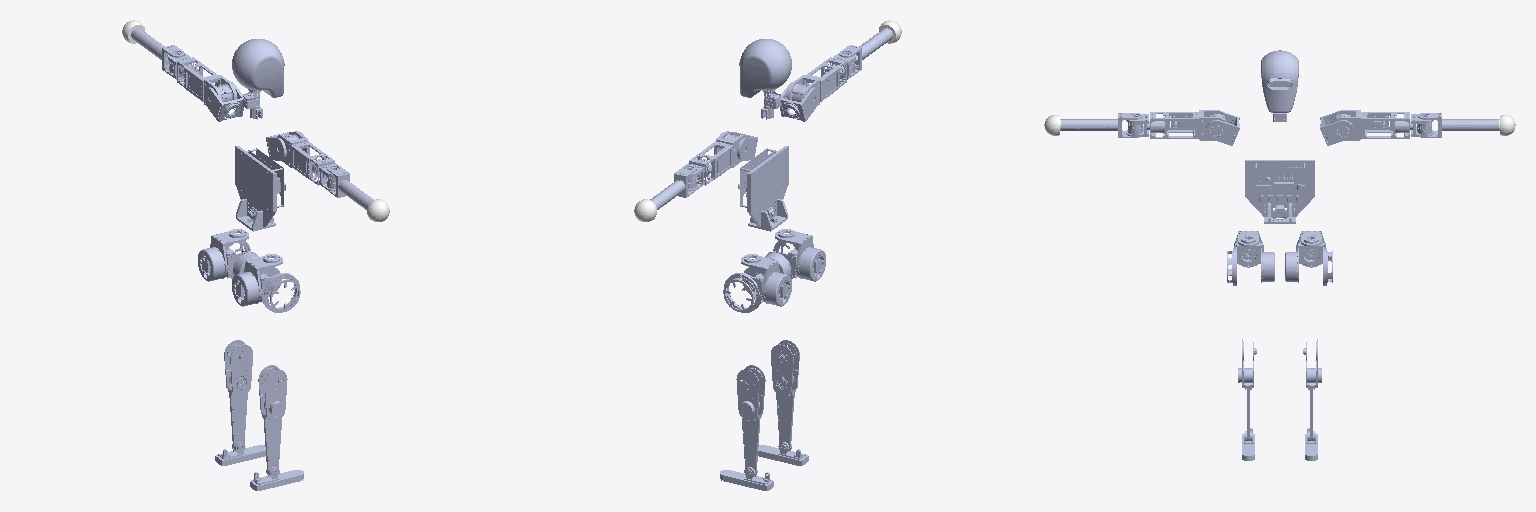
--- Facts derived from the render (not from the file) ---
Views: 3 orthographic renders of the robot side by side, from view 1: azimuth 30°, elevation 25°; view 2: azimuth 150°, elevation 25°; view 3: azimuth 270°, elevation 25°.
Robot: Wholebody_URDF_1125 — 25 links, 24 joints (19 revolute, 5 fixed); root link Pelvis; default pose: every joint at zero.
Visible links, largest first — view 1: Torso, Head, L_calf, R_calf, L_shoulder_roll, R_shoulder_roll, L_hip, R_hip, R_hip2, L_shoulder_pitch, R_elbow_pitch, L_elbow_pitch (+3 smaller); view 2: Torso, Head, R_calf, L_calf, R_shoulder_roll, L_shoulder_roll, R_hip, L_hip, L_hip2, R_shoulder_pitch, L_elbow_pitch, R_elbow_pitch (+3 smaller); view 3: Torso, Head, L_shoulder_roll, R_shoulder_roll, R_hip2, L_hip2, L_elbow_pitch, R_elbow_pitch, L_shoulder_pitch, R_shoulder_pitch, L_calf, R_calf.
Link boxes in pixels (bbox=[...]): Torso: bbox=[235, 146, 285, 231]; Head: bbox=[232, 39, 284, 119]; L_calf: bbox=[224, 340, 252, 452]; R_calf: bbox=[258, 365, 287, 477]; L_shoulder_roll: bbox=[177, 57, 236, 104]; R_shoulder_roll: bbox=[277, 131, 334, 185]; L_hip: bbox=[198, 229, 248, 281]; R_hip: bbox=[232, 254, 282, 306]; R_hip2: bbox=[260, 267, 300, 312]; L_shoulder_pitch: bbox=[204, 82, 243, 121]; R_elbow_pitch: bbox=[327, 165, 373, 209]; L_elbow_pitch: bbox=[131, 28, 184, 75]; Torso: bbox=[738, 146, 788, 231]; Head: bbox=[739, 39, 791, 119]; R_calf: bbox=[771, 340, 799, 452]; L_calf: bbox=[736, 365, 765, 477]; R_shoulder_roll: bbox=[787, 57, 846, 104]; L_shoulder_roll: bbox=[689, 131, 746, 185]; R_hip: bbox=[775, 229, 825, 281]; L_hip: bbox=[741, 254, 791, 306]; L_hip2: bbox=[723, 267, 763, 312]; R_shoulder_pitch: bbox=[780, 82, 819, 121]; L_elbow_pitch: bbox=[650, 165, 696, 209]; R_elbow_pitch: bbox=[839, 28, 892, 75]; Torso: bbox=[1245, 160, 1314, 223]; Head: bbox=[1261, 50, 1298, 121]; L_shoulder_roll: bbox=[1331, 110, 1409, 140]; R_shoulder_roll: bbox=[1150, 110, 1228, 140]; R_hip2: bbox=[1227, 242, 1274, 285]; L_hip2: bbox=[1285, 242, 1332, 285]; L_elbow_pitch: bbox=[1418, 113, 1498, 137]; R_elbow_pitch: bbox=[1061, 113, 1141, 137]; L_shoulder_pitch: bbox=[1320, 112, 1353, 145]; R_shoulder_pitch: bbox=[1206, 112, 1239, 145]; L_calf: bbox=[1303, 339, 1321, 440]; R_calf: bbox=[1238, 339, 1256, 440].
Bounding box of the posed robot: 0.2567 × 1.76 × 1.64 m (x, y, z).
Meshes: 23 distinct files referenced, 20 mesh visuals loaded (20 binary STL); not drawn: 3 (reference not matched to a file when rendering).

URDF robot description (Wholebody_URDF_1125):
<?xml version="1.0" encoding="utf-8"?>
<!-- This URDF was automatically created by SolidWorks to URDF Exporter! Originally created by Stephen Brawner ([email redacted]) 
     Commit Version: 1.6.0-4-g7f85cfe  Build Version: 1.6.7995.38578
     For more information, please see http://wiki.ros.org/sw_urdf_exporter -->
<robot
  name="Wholebody_URDF_1125">
  <link
    name="Pelvis">
    <inertial>
      <origin
        xyz="-0.018793 0.000052 0.034756"
        rpy="0 0 0" />
      <mass
        value="6.636796" />
      <inertia
        ixx="0.073763"
        ixy="0.000024"
        ixz="0.001899"
        iyy="0.022641"
        iyz="-0.000003"
        izz="0.087990" />
    </inertial>
    <visual>
      <origin
        xyz="0 0 0"
        rpy="0 0 0" />
      <geometry>
        <mesh
          filename="meshes/Pelvis.STL" />
      </geometry>
      <material
        name="">
        <color
          rgba="0.79216 0.81961 0.93333 1" />
      </material>
    </visual>
    <collision>
      <origin
        xyz="0 0 0"
        rpy="0 0 0" />
      <geometry>
        <mesh
          filename="meshes/Pelvis.STL" />
      </geometry>
    </collision>
  </link>
  <link
    name="Torso">
    <inertial>
      <origin
        xyz="-0.015777 -0.000523 0.232555"
        rpy="0 0 0" />
      <mass
        value="13.423049" />
      <inertia
        ixx="0.226837"
        ixy="0.000171"
        ixz="-0.004416"
        iyy="0.165371"
        iyz="-0.000024"
        izz="0.098576" />
    </inertial>
    <visual>
      <origin
        xyz="0 0 0"
        rpy="0 0 0" />
      <geometry>
        <mesh
          filename="meshes/Torso.STL" />
      </geometry>
      <material
        name="">
        <color
          rgba="0.792156862745098 0.819607843137255 0.933333333333333 1" />
      </material>
    </visual>
    <collision>
      <origin
        xyz="0 0 0"
        rpy="0 0 0" />
      <geometry>
        <mesh
          filename="meshes/Torso.STL" />
      </geometry>
    </collision>
  </link>
  <joint
    name="Waist_joint"
    type="revolute">
    <origin
      xyz="0 0 0.0825"
      rpy="0 0 0" />
    <parent
      link="Pelvis" />
    <child
      link="Torso" />
    <axis
      xyz="0 0 1" />
    <limit
      lower="-1.57"
      upper="1.57"
      effort="100"
      velocity="16" />
  </joint>
  <link
    name="L_shoulder_pitch">
    <inertial>
      <origin
        xyz="0.002264 0.049276 0"
        rpy="0 0 0" />
      <mass
        value="0.4695" />
      <inertia
        ixx="0.000899"
        ixy="-6.5E-05"
        ixz="0"
        iyy="0.000951"
        iyz="0"
        izz="0.001364" />
    </inertial>
    <visual>
      <origin
        xyz="0 0 0"
        rpy="0 0 0" />
      <geometry>
        <mesh
          filename="meshes/L_shoulder_pitch.STL" />
      </geometry>
      <material
        name="">
        <color
          rgba="0.792156862745098 0.819607843137255 0.933333333333333 1" />
      </material>
    </visual>
    <collision>
      <origin
        xyz="0 0 0"
        rpy="0 0 0" />
      <geometry>
        <mesh
          filename="meshes/L_shoulder_pitch.STL" />
      </geometry>
    </collision>
  </link>
  <joint
    name="L_shoulder_pitch_joint"
    type="revolute">
    <origin
      xyz="0 0.16 0.36424"
      rpy="0.34907 0 0" />
    <parent
      link="Torso" />
    <child
      link="L_shoulder_pitch" />
    <axis
      xyz="0 1 0" />
    <limit
      lower="-2.09"
      upper="2.09"
      effort="40"
      velocity="18" />
  </joint>
  <link
    name="L_shoulder_roll">
    <inertial>
      <origin
        xyz="0.000605 6.8E-05 -0.08074"
        rpy="0 0 0" />
      <mass
        value="2.05" />
      <inertia
        ixx="0.020258"
        ixy="-5E-06"
        ixz="-0.000316"
        iyy="0.020052"
        iyz="4.5E-05"
        izz="0.002351" />
    </inertial>
    <visual>
      <origin
        xyz="0 0 0"
        rpy="0 0 0" />
      <geometry>
        <mesh
          filename="meshes/L_shoulder_roll.STL" />
      </geometry>
      <material
        name="">
        <color
          rgba="0.792156862745098 0.819607843137255 0.933333333333333 1" />
      </material>
    </visual>
    <collision>
      <origin
        xyz="0 0 0"
        rpy="0 0 0" />
      <geometry>
        <mesh
          filename="meshes/L_shoulder_roll.STL" />
      </geometry>
    </collision>
  </link>
  <joint
    name="L_shoulder_roll_joint"
    type="revolute">
    <origin
      xyz="0 0.082 0"
      rpy="1.2217304764 0 0" />
    <parent
      link="L_shoulder_pitch" />
    <child
      link="L_shoulder_roll" />
    <axis
      xyz="1 0 0" />
    <limit
      lower="-1.65"
      upper="1.92"
      effort="40"
      velocity="18" />
  </joint>
  <link
    name="L_shoulder_yaw">
    <inertial>
      <origin
        xyz="4.9E-05 0.002116 -0.045474"
        rpy="0 0 0" />
      <mass
        value="0.602" />
      <inertia
        ixx="0.000595"
        ixy="0"
        ixz="0"
        iyy="0.000485"
        iyz="3E-06"
        izz="0.000471" />
    </inertial>
    <visual>
      <origin
        xyz="0 0 0"
        rpy="0 0 0" />
      <geometry>
        <mesh
          filename="meshes/L_shoulder_yaw.STL" />
      </geometry>
      <material
        name="">
        <color
          rgba="0.792156862745098 0.819607843137255 0.933333333333333 1" />
      </material>
    </visual>
    <collision>
      <origin
        xyz="0 0 0"
        rpy="0 0 0" />
      <geometry>
        <mesh
          filename="meshes/L_shoulder_yaw.STL" />
      </geometry>
    </collision>
  </link>
  <joint
    name="L_shoulder_yaw_joint"
    type="revolute">
    <origin
      xyz="0 0 -0.2505"
      rpy="0 0 0" />
    <parent
      link="L_shoulder_roll" />
    <child
      link="L_shoulder_yaw" />
    <axis
      xyz="0 0 1" />
    <limit
      lower="-1.57"
      upper="1.57"
      effort="20"
      velocity="11.5" />
  </joint>
  <link
    name="L_elbow_pitch">
    <inertial>
      <origin
        xyz="0 -0.000251 -0.078513"
        rpy="0 0 0" />
      <mass
        value="0.3055" />
      <inertia
        ixx="0.00177"
        ixy="0"
        ixz="0"
        iyy="0.0016"
        iyz="4E-06"
        izz="0.000308" />
    </inertial>
    <visual>
      <origin
        xyz="0 0 0"
        rpy="0 0 0" />
      <geometry>
        <mesh
          filename="meshes/L_elbow_pitch.STL" />
      </geometry>
      <material
        name="">
        <color
          rgba="0.792156862745098 0.819607843137255 0.933333333333333 1" />
      </material>
    </visual>
    <collision>
      <origin
        xyz="0 0 0"
        rpy="0 0 0" />
      <geometry>
        <mesh
          filename="meshes/L_elbow_pitch.STL" />
      </geometry>
    </collision>
  </link>
  <joint
    name="L_elbow_pitch_joint"
    type="revolute">
    <origin
      xyz="0 0 -0.0545"
      rpy="0 0 0" />
    <parent
      link="L_shoulder_yaw" />
    <child
      link="L_elbow_pitch" />
    <axis
      xyz="0 1 0" />
    <!-- <limit
      lower="-1.57"
      upper="0"
      effort="20"
      velocity="11.5" /> -->

    <limit
      lower="-1.57"
      upper="1.57"
      effort="20"
      velocity="11.5" />
  </joint>
  <link
    name="L_EE">
    <inertial>
      <origin
        xyz="0 0 -0.003521"
        rpy="0 0 0" />
      <mass
        value="0.0665" />
      <inertia
        ixx="3.8E-05"
        ixy="0"
        ixz="0"
        iyy="3.8E-05"
        iyz="0"
        izz="4.4E-05" />
    </inertial>
    <visual>
      <origin
        xyz="0 0 0"
        rpy="0 0 0" />
      <geometry>
        <mesh
          filename="meshes/L_EE.STL" />
      </geometry>
      <material
        name="">
        <color
          rgba="1 1 1 1" />
      </material>
    </visual>
    <collision>
      <origin
        xyz="0 0 0"
        rpy="0 0 0" />
      <geometry>
        <mesh
          filename="meshes/L_EE.STL" />
      </geometry>
    </collision>
  </link>
  <joint
    name="L_EE_joint"
    type="fixed">
    <origin
      xyz="0 0 -0.3"
      rpy="0 0 0" />
    <parent
      link="L_elbow_pitch" />
    <child
      link="L_EE" />
    <axis
      xyz="0 0 0" />
  </joint>
  <link
    name="R_shoulder_pitch">
    <inertial>
      <origin
        xyz="0.002185 -0.04921 0"
        rpy="0 0 0" />
      <mass
        value="0.4675" />
      <inertia
        ixx="0.000895"
        ixy="6.5E-05"
        ixz="0"
        iyy="0.000946"
        iyz="0"
        izz="0.001358" />
    </inertial>
    <visual>
      <origin
        xyz="0 0 0"
        rpy="0 0 0" />
      <geometry>
        <mesh
          filename="meshes/R_shoulder_pitch.STL" />
      </geometry>
      <material
        name="">
        <color
          rgba="0.792156862745098 0.819607843137255 0.933333333333333 1" />
      </material>
    </visual>
    <collision>
      <origin
        xyz="0 0 0"
        rpy="0 0 0" />
      <geometry>
        <mesh
          filename="meshes/R_shoulder_pitch.STL" />
      </geometry>
    </collision>
  </link>
  <joint
    name="R_shoulder_pitch_joint"
    type="revolute">
    <origin
      xyz="0 -0.16 0.36424"
      rpy="-0.34907 0 0" />
    <parent
      link="Torso" />
    <child
      link="R_shoulder_pitch" />
    <axis
      xyz="0 1 0" />
    <limit
      lower="-2.09"
      upper="2.09"
      effort="40"
      velocity="18" />
  </joint>
  <link
    name="R_shoulder_roll">
    <inertial>
      <origin
        xyz="0.000805 -0.000221 -0.080651"
        rpy="0 0 0" />
      <mass
        value="2.05" />
      <inertia
        ixx="0.020167"
        ixy="-5E-06"
        ixz="-0.00033"
        iyy="0.019962"
        iyz="-2.4E-05"
        izz="0.002330" />
    </inertial>
    <visual>
      <origin
        xyz="0 0 0"
        rpy="0 0 0" />
      <geometry>
        <mesh
          filename="meshes/R_shoulder_roll.STL" />
      </geometry>
      <material
        name="">
        <color
          rgba="0.792156862745098 0.819607843137255 0.933333333333333 1" />
      </material>
    </visual>
    <collision>
      <origin
        xyz="0 0 0"
        rpy="0 0 0" />
      <geometry>
        <mesh
          filename="meshes/R_shoulder_roll.STL" />
      </geometry>
    </collision>
  </link>
  <joint
    name="R_shoulder_roll_joint"
    type="revolute">
    <origin
      xyz="0 -0.082 0"
      rpy="-1.2217304764 0 0" />
    <parent
      link="R_shoulder_pitch" />
    <child
      link="R_shoulder_roll" />
    <axis
      xyz="1 0 0" />
    <limit
      lower="-1.92"
      upper="1.65"
      effort="40"
      velocity="18" />
  </joint>
  <link
    name="R_shoulder_yaw">
    <inertial>
      <origin
        xyz="-4.9E-05 -0.00212 -0.045518"
        rpy="0 0 0" />
      <mass
        value="0.6025" />
      <inertia
        ixx="0.000595"
        ixy="0"
        ixz="0"
        iyy="0.000485"
        iyz="-3E-06"
        izz="0.000471" />
    </inertial>
    <visual>
      <origin
        xyz="0 0 0"
        rpy="0 0 0" />
      <geometry>
        <mesh
          filename="meshes/R_shoulder_yaw.STL" />
      </geometry>
      <material
        name="">
        <color
          rgba="0.792156862745098 0.819607843137255 0.933333333333333 1" />
      </material>
    </visual>
    <collision>
      <origin
        xyz="0 0 0"
        rpy="0 0 0" />
      <geometry>
        <mesh
          filename="meshes/R_shoulder_yaw.STL" />
      </geometry>
    </collision>
  </link>
  <joint
    name="R_shoulder_yaw_joint"
    type="revolute">
    <origin
      xyz="0 0 -0.2505"
      rpy="0 0 0" />
    <parent
      link="R_shoulder_roll" />
    <child
      link="R_shoulder_yaw" />
    <axis
      xyz="0 0 1" />
    <limit
      lower="-1.57"
      upper="1.57"
      effort="20"
      velocity="11.5" />
  </joint>
  <link
    name="R_elbow_pitch">
    <inertial>
      <origin
        xyz="0 0.000188 -0.07906"
        rpy="0 0 0" />
      <mass
        value="0.304" />
      <inertia
        ixx="0.001765"
        ixy="0"
        ixz="0"
        iyy="0.001598"
        iyz="-3E-06"
        izz="0.000304" />
    </inertial>
    <visual>
      <origin
        xyz="0 0 0"
        rpy="0 0 0" />
      <geometry>
        <mesh
          filename="meshes/R_elbow_pitch.STL" />
      </geometry>
      <material
        name="">
        <color
          rgba="0.792156862745098 0.819607843137255 0.933333333333333 1" />
      </material>
    </visual>
    <collision>
      <origin
        xyz="0 0 0"
        rpy="0 0 0" />
      <geometry>
        <mesh
          filename="meshes/R_elbow_pitch.STL" />
      </geometry>
    </collision>
  </link>
  <joint
    name="R_elbow_pitch_joint"
    type="revolute">
    <origin
      xyz="0 0 -0.0545"
      rpy="0 0 0" />
    <parent
      link="R_shoulder_yaw" />
    <child
      link="R_elbow_pitch" />
    <axis
      xyz="0 1 0" />
    <!-- <limit
      lower="-1.57"
      upper="0"
      effort="20"
      velocity="11.5" /> -->
    <limit
      lower="-1.57"
      upper="1.57"
      effort="20"
      velocity="11.5" />
  </joint>
  <link
    name="R_EE">
    <inertial>
      <origin
        xyz="0 0 -0.003521"
        rpy="0 0 0" />
      <mass
        value="0.0665" />
      <inertia
        ixx="3.8E-05"
        ixy="0"
        ixz="0"
        iyy="3.8E-05"
        iyz="0"
        izz="4.4E-05" />
    </inertial>
    <visual>
      <origin
        xyz="0 0 0"
        rpy="0 0 0" />
      <geometry>
        <mesh
          filename="meshes/R_EE.STL" />
      </geometry>
      <material
        name="">
        <color
          rgba="1 1 1 1" />
      </material>
    </visual>
    <collision>
      <origin
        xyz="0 0 0"
        rpy="0 0 0" />
      <geometry>
        <mesh
          filename="meshes/R_EE.STL" />
      </geometry>
    </collision>
  </link>
  <joint
    name="R_EE_joint"
    type="fixed">
    <origin
      xyz="0 0 -0.3"
      rpy="0 0 0" />
    <parent
      link="R_elbow_pitch" />
    <child
      link="R_EE" />
    <axis
      xyz="0 0 0" />
  </joint>
  <link
    name="Head">
    <inertial>
      <origin
        xyz="0.022307 0.000408 0.104941"
        rpy="0 0 0" />
      <mass
        value="0.44842" />
      <inertia
        ixx="0.002696"
        ixy="-9E-06"
        ixz="-0.000288"
        iyy="0.00313"
        iyz="-7E-06"
        izz="0.001525" />
    </inertial>
    <visual>
      <origin
        xyz="0 0 0"
        rpy="0 0 0" />
      <geometry>
        <mesh
          filename="meshes/Head.STL" />
      </geometry>
      <material
        name="">
        <color
          rgba="0.792156862745098 0.819607843137255 0.933333333333333 1" />
      </material>
    </visual>
    <collision>
      <origin
        xyz="0 0 0"
        rpy="0 0 0" />
      <geometry>
        <mesh
          filename="meshes/Head.STL" />
      </geometry>
    </collision>
  </link>
  <joint
    name="Head_joint"
    type="fixed">
    <origin
      xyz="-0.0027205 0 0.45287"
      rpy="0 0 0" />
    <parent
      link="Torso" />
    <child
      link="Head" />
    <axis
      xyz="0 0 0" />
  </joint>
  <link
    name="L_hip">
    <inertial>
      <origin
        xyz="-0.086776 0.0 -0.070553"
        rpy="0 0 0" />
      <mass
        value="1.5262" />
      <inertia
        ixx="0.004080"
        ixy="0.0"
        ixz="-0.000987"
        iyy="0.003954"
        iyz="0.0"
        izz="0.002761" />
    </inertial>
    <visual>
      <origin
        xyz="0 0 0"
        rpy="0 0 0" />
      <geometry>
        <mesh
          filename="meshes/L_hip.STL" />
      </geometry>
      <material
        name="">
        <color
          rgba="0.792156862745098 0.819607843137255 0.933333333333333 1" />
      </material>
    </visual>
    <collision>
      <origin
        xyz="0 0 0"
        rpy="0 0 0" />
      <geometry>
        <mesh
          filename="meshes/L_hip.STL" />
      </geometry>
    </collision>
  </link>
  <joint
    name="L_hip_joint"
    type="revolute">
    <origin
      xyz="-0.0053471 0.1175 -0.0067"
      rpy="0 0 0" />
    <parent
      link="Pelvis" />
    <child
      link="L_hip" />
    <axis
      xyz="0 0 1" />
    <limit
      lower="-1.5"
      upper="1.5"
      effort="120"
      velocity="23" />
  </joint>
  <link
    name="L_hip2">
    <inertial>
      <origin
        xyz="0.076889 -0.034855 -0.014787"
        rpy="0 0 0" />
      <mass
        value="1.726000" />
      <inertia
        ixx="0.006963"
        ixy="0.000389"
        ixz="0.000363"
        iyy="0.004861"
        iyz="-0.000232"
        izz="0.007308" />
    </inertial>
    <visual>
      <origin
        xyz="0 0 0"
        rpy="0 0 0" />
      <geometry>
        <mesh
          filename="meshes/L_hip2.STL" />
      </geometry>
      <material
        name="">
        <color
          rgba="0.792156862745098 0.819607843137255 0.933333333333333 1" />
      </material>
    </visual>
    <collision>
      <origin
        xyz="0 0 0"
        rpy="0 0 0" />
      <geometry>
        <mesh
          filename="meshes/L_hip2.STL" />
      </geometry>
    </collision>
  </link>
  <joint
    name="L_hip2_joint"
    type="revolute">
    <origin
      xyz="-0.0763 0 -0.084"
      rpy="0 0 0" />
    <parent
      link="L_hip" />
    <child
      link="L_hip2" />
    <axis
      xyz="1 0 0" />
    <limit
      lower="-0.26"
      upper="0.69"
      effort="120"
      velocity="23" />
  </joint>
  <link
    name="L_thigh">
    <inertial>
      <origin
        xyz="0.000014 0.025209 -0.126499"
        rpy="0 0 0" />
      <mass
        value="4.750102" />
      <inertia
        ixx="0.107593"
        ixy="0.000001"
        ixz="0.000009"
        iyy="0.107651"
        iyz="-0.006073"
        izz="0.008614" />
    </inertial>
    <visual>
      <origin
        xyz="0 0 0"
        rpy="0 0 0" />
      <geometry>
        <mesh
          filename="meshes/L_thigh.STL" />
      </geometry>
      <material
        name="">
        <color
          rgba="0.792156862745098 0.819607843137255 0.933333333333333 1" />
      </material>
    </visual>
    <collision>
      <origin
        xyz="0 0 0"
        rpy="0 0 0" />
      <geometry>
        <mesh
          filename="meshes/L_thigh.STL" />
      </geometry>
    </collision>
  </link>
  <joint
    name="L_thigh_joint"
    type="revolute">
    <origin
      xyz="0.081 -0.0148 -0.0185"
      rpy="0 0.0 0" />
    <parent
      link="L_hip2" />
    <child
      link="L_thigh" />
    <axis
      xyz="0 1 0" />
    <limit
      lower="-1.25"
      upper="1.1"
      effort="120"
      velocity="23" />
  </joint>
  <link
    name="L_calf">
    <inertial>
      <origin
        xyz="-0.000226 0.016658 -0.148439"
        rpy="0 0 0" />
      <mass
        value="1.326656" />
      <inertia
        ixx="0.016199"
        ixy="0.000009"
        ixz="0.000014"
        iyy="0.016302"
        iyz="0.000005"
        izz="0.000772" />
    </inertial>
    <visual>
      <origin
        xyz="0 0 0"
        rpy="0 0 0" />
      <geometry>
        <mesh
          filename="meshes/L_calf.STL" />
      </geometry>
      <material
        name="">
        <color
          rgba="0.792156862745098 0.819607843137255 0.933333333333333 1" />
      </material>
    </visual>
    <collision>
      <origin
        xyz="0 0 0"
        rpy="0 0 0" />
      <geometry>
        <mesh
          filename="meshes/L_calf.STL" />
      </geometry>
    </collision>
  </link>
  <joint
    name="L_calf_joint"
    type="revolute">
    <origin
      xyz="0 0 -0.35"
      rpy="0 0.0 0" />
    <parent
      link="L_thigh" />
    <child
      link="L_calf" />
    <axis
      xyz="0 1 0" />
    <limit
      lower="-1.571"
      upper="1.571"
      effort="180"
      velocity="15" />
  </joint>
  <link
    name="L_toe">
    <inertial>
      <origin
        xyz="0.002701 0.015076 -0.032168"
        rpy="0 0 0" />
      <mass
        value="0.520" />
      <inertia
        ixx="0.000162"
        ixy="0.000016"
        ixz="0.000083"
        iyy="0.001485"
        iyz="0.000003"
        izz="0.001511" />
    </inertial>
    <visual>
      <origin
        xyz="0 0 0"
        rpy="0 0 0" />
      <geometry>
        <mesh
          filename="meshes/L_toe.STL" />
      </geometry>
      <material
        name="">
        <color
          rgba="0.792156862745098 0.819607843137255 0.933333333333333 1" />
      </material>
    </visual>
    <collision>
      <origin
        xyz="0 0 0"
        rpy="0 0 0" />
      <geometry>
        <mesh
          filename="meshes/L_toe.STL" />
      </geometry>
    </collision>
  </link>
  <joint
    name="L_toe_joint"
    type="revolute">
    <origin
      xyz="0 0 -0.35"
      rpy="0 0.0 0" />
    <parent
      link="L_calf" />
    <child
      link="L_toe" />
    <axis
      xyz="0 1 0" />
    <limit
      lower="-0.9"
      upper="0.9"
      effort="36"
      velocity="11.5" />
  </joint>
    <link name="L_end_effector">
    <visual>
      <origin xyz="0 0 0" rpy="0 0 0" />
      <geometry>
        <sphere radius="0.0001" />
      </geometry>
      <material name=""> 
        <color rgba="0 0 0 0" />
      </material>
    </visual>
  </link>
  <joint name="L_end_joint"
    type="fixed">
    <origin
      xyz="0 0 -0.049"
      rpy="0 0 0" />
    <parent
      link="L_toe" />
    <child
      link="L_end_effector" />
    <axis
      xyz="0 0 0" />
    <limit
      lower="0"
      upper="0"
      effort="0"
      velocity="0" />
  </joint>
  <link
    name="R_hip">
    <inertial>
      <origin
        xyz="-0.086776 0.0 -0.070553"
        rpy="0 0 0" />
      <mass
        value="1.5262" />
      <inertia
        ixx="0.004080"
        ixy="0.0"
        ixz="-0.000987"
        iyy="0.003954"
        iyz="0.0"
        izz="0.002761" />
    </inertial>
    <visual>
      <origin
        xyz="0 0 0"
        rpy="0 0 0" />
      <geometry>
        <mesh
          filename="meshes/R_hip.STL" />
      </geometry>
      <material
        name="">
        <color
          rgba="0.79216 0.81961 0.93333 1" />
      </material>
    </visual>
    <collision>
      <origin
        xyz="0 0 0"
        rpy="0 0 0" />
      <geometry>
        <mesh
          filename="meshes/R_hip.STL" />
      </geometry>
    </collision>
  </link>
  <joint
    name="R_hip_joint"
    type="revolute">
    <origin
      xyz="-0.0053471 -0.1175 -0.0067"
      rpy="0 0 0" />
    <parent
      link="Pelvis" />
    <child
      link="R_hip" />
    <axis
      xyz="0 0 1" />
    <limit
      lower="-1.5"
      upper="1.5"
      effort="120"
      velocity="23" />
  </joint>
  <link
    name="R_hip2">
    <inertial>
      <origin
        xyz="0.076889 0.034855 -0.014787"
        rpy="0 0 0" />
      <mass
        value="1.726000" />
      <inertia
        ixx="0.006963"
        ixy="-0.000389"
        ixz="0.000363"
        iyy="0.004861"
        iyz="0.000232"
        izz="0.007308" />
    </inertial>
    <visual>
      <origin
        xyz="0 0 0"
        rpy="0 0 0" />
      <geometry>
        <mesh
          filename="meshes/R_hip2.STL" />
      </geometry>
      <material
        name="">
        <color
          rgba="0.792156862745098 0.819607843137255 0.933333333333333 1" />
      </material>
    </visual>
    <collision>
      <origin
        xyz="0 0 0"
        rpy="0 0 0" />
      <geometry>
        <mesh
          filename="meshes/R_hip2.STL" />
      </geometry>
    </collision>
  </link>
  <joint
    name="R_hip2_joint"
    type="revolute">
    <origin
      xyz="-0.0763 0 -0.084"
      rpy="0 0 0" />
    <parent
      link="R_hip" />
    <child
      link="R_hip2" />
    <axis
      xyz="1 0 0" />
    <limit
      lower="-0.69"
      upper="0.26"
      effort="120"
      velocity="23" />
  </joint>
  <link
    name="R_thigh">
    <inertial>
      <origin
        xyz="-0.000014 -0.025209 -0.126499"
        rpy="0 0 0" />
      <mass
        value="4.750102" />
      <inertia
        ixx="0.107593"
        ixy="0.000001"
        ixz="-0.000009"
        iyy="0.107651"
        iyz="0.006073"
        izz="0.008614" />
    </inertial>
    <visual>
      <origin
        xyz="0 0 0"
        rpy="0 0 0" />
      <geometry>
        <mesh
          filename="meshes/R_thigh.STL" />
      </geometry>
      <material
        name="">
        <color
          rgba="0.792156862745098 0.819607843137255 0.933333333333333 1" />
      </material>
    </visual>
    <collision>
      <origin
        xyz="0 0 0"
        rpy="0 0 0" />
      <geometry>
        <mesh
          filename="meshes/R_thigh.STL" />
      </geometry>
    </collision>
  </link>
  <joint
    name="R_thigh_joint"
    type="revolute">
    <origin
      xyz="0.081 0.0148 -0.0185"
      rpy="0 0.0 0" />
    <parent
      link="R_hip2" />
    <child
      link="R_thigh" />
    <axis
      xyz="0 1 0" />
    <limit
      lower="-1.25"
      upper="1.1"
      effort="120"
      velocity="23" />
  </joint>
  <link
    name="R_calf">
    <inertial>
      <origin
        xyz="0.000226 -0.016658 -0.148439"
        rpy="0 0 0" />
      <mass
        value="1.326656" />
      <inertia
        ixx="0.016199"
        ixy="0.000009"
        ixz="-0.000014"
        iyy="0.016302"
        iyz="-0.000005"
        izz="0.000772" />
    </inertial>
    <visual>
      <origin
        xyz="0 0 0"
        rpy="0 0 0" />
      <geometry>
        <mesh
          filename="meshes/R_calf.STL" />
      </geometry>
      <material
        name="">
        <color
          rgba="0.792156862745098 0.819607843137255 0.933333333333333 1" />
      </material>
    </visual>
    <collision>
      <origin
        xyz="0 0 0"
        rpy="0 0 0" />
      <geometry>
        <mesh
          filename="meshes/R_calf.STL" />
      </geometry>
    </collision>
  </link>
  <joint
    name="R_calf_joint"
    type="revolute">
    <origin
      xyz="0 0 -0.35"
      rpy="0 0.0 0" />
    <parent
      link="R_thigh" />
    <child
      link="R_calf" />
    <axis
      xyz="0 1 0" />
    <limit
      lower="-1.571"
      upper="1.571"
      effort="180"
      velocity="15" />
  </joint>
  <link
    name="R_toe">
    <inertial>
      <origin
        xyz="0.002387 -0.015128 -0.032168"
        rpy="0 0 0" />
      <mass
        value="0.520" />
      <inertia
        ixx="0.000162"
        ixy="0.000012"
        ixz="0.000083"
        iyy="0.001485"
        iyz="-0.000004"
        izz="0.001511" />
    </inertial>
    <visual>
      <origin
        xyz="0 0 0"
        rpy="0 0 0" />
      <geometry>
        <mesh
          filename="meshes/R_toe.STL" />
      </geometry>
      <material
        name="">
        <color
          rgba="0.792156862745098 0.819607843137255 0.933333333333333 1" />
      </material>
    </visual>
    <collision>
      <origin
        xyz="0 0 0"
        rpy="0 0 0" />
      <geometry>
        <mesh
          filename="meshes/R_toe.STL" />
      </geometry>
    </collision>
  </link>
  <joint
    name="R_toe_joint"
    type="revolute">
    <origin
      xyz="0 0 -0.35"
      rpy="0 0.0 0" />
    <parent
      link="R_calf" />
    <child
      link="R_toe" />
    <axis
      xyz="0 1 0" />
    <limit
      lower="-0.9"
      upper="0.9"
      effort="36"
      velocity="11.5" />
  </joint>
    <link name="R_end_effector">
    <visual>
      <origin xyz="0 0 0" rpy="0 0 0" />
      <geometry>
        <sphere radius="0.0001" />
      </geometry>
      <material name=""> 
        <color rgba="0 0 0 0" />
      </material>
    </visual>
  </link>
  <joint name="R_end_joint"
    type="fixed">
    <origin
      xyz="0 0 -0.049"
      rpy="0 0 0" />
    <parent
      link="R_toe" />
    <child
      link="R_end_effector" />
    <axis
      xyz="0 0 0" />
    <limit
      lower="0"
      upper="0"
      effort="0"
      velocity="0" />
  </joint>
</robot>
